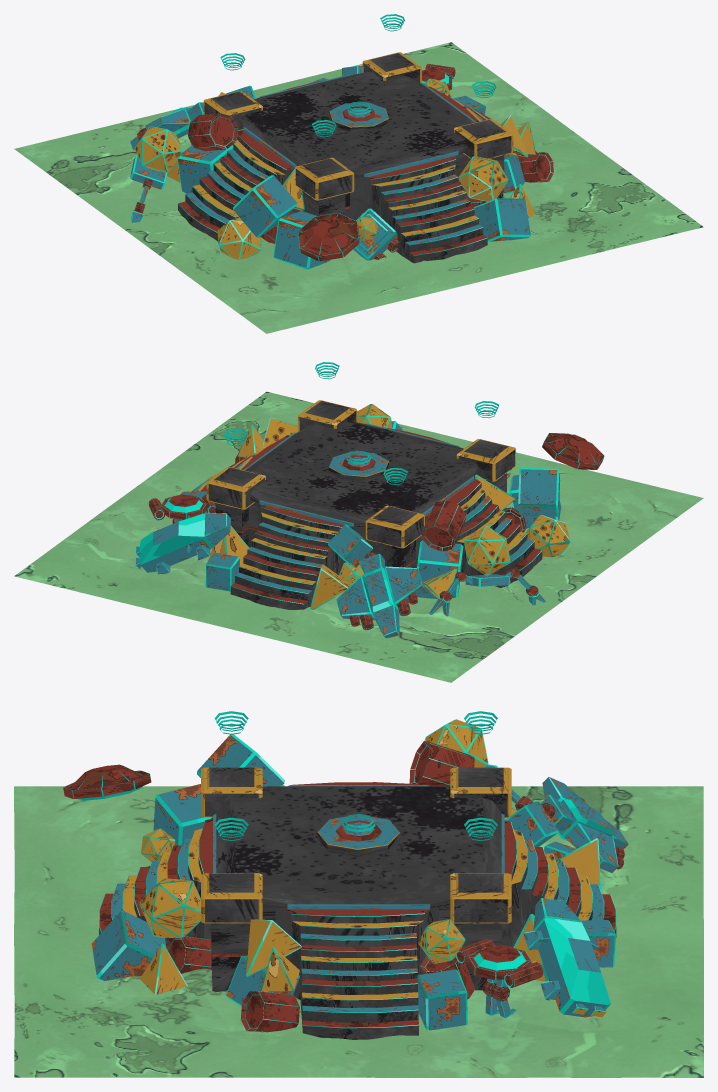
File: DBCPLATAFORMA_20260429.glb
3 renders of one model, top to bottom at view 1: azimuth 30°, elevation 25°; view 2: azimuth 150°, elevation 25°; view 3: azimuth 270°, elevation 25°, orthographic. The views are drawn at different scales.
Visible parts, largest first — view 1: Plane.2X2, Base.001, Escalera, Soporte01, SpiderRobot, NaveB, Cube.060, Cube.019, Soporte01.002, Icosphere.015, Cylinder.020, RobococheB (+10 smaller); view 2: Plane.2X2, Base.001, Escalera, Nave01, Robocohe01, SpiderRobot, Soporte01.004, Soporte01.003, Cube.060, Soporte01, Cylinder.020, NaveB (+13 smaller); view 3: Plane.2X2, Base.001, Escalera, Robocohe01, Soporte01.002, Soporte01.003, Nave01, Mecarobot01, Cube.019, Icosphere.015, Cube.065, Plataforma para objetos (+20 smaller).
Part boxes in pixels (x1,y1,x2,y2): Plane.2X2: [14, 42, 703, 333]; Base.001: [240, 72, 475, 217]; Escalera: [178, 81, 536, 263]; Soporte01: [295, 158, 354, 215]; SpiderRobot: [130, 126, 183, 222]; NaveB: [298, 213, 359, 261]; Cube.060: [233, 175, 297, 237]; Cube.019: [473, 198, 530, 241]; Soporte01.002: [454, 119, 513, 198]; Icosphere.015: [458, 156, 508, 201]; Cylinder.020: [188, 113, 238, 151]; RobococheB: [353, 208, 399, 260]; Plane.2X2: [14, 391, 703, 682]; Base.001: [243, 421, 478, 552]; Escalera: [191, 427, 542, 609]; Nave01: [336, 552, 424, 638]; Robocohe01: [135, 513, 230, 574]; SpiderRobot: [429, 526, 545, 616]; Soporte01.004: [365, 505, 424, 567]; Soporte01.003: [206, 467, 265, 545]; Cube.060: [518, 468, 560, 516]; Soporte01: [456, 439, 515, 508]; Cylinder.020: [421, 500, 466, 551]; NaveB: [542, 433, 604, 469]; Plane.2X2: [14, 786, 703, 1077]; Base.001: [213, 785, 504, 931]; Escalera: [99, 782, 616, 1039]; Robocohe01: [523, 898, 610, 1017]; Soporte01.002: [201, 873, 262, 991]; Soporte01.003: [450, 873, 511, 990]; Nave01: [540, 777, 628, 872]; Mecarobot01: [456, 938, 543, 1018]; Cube.019: [91, 911, 166, 980]; Icosphere.015: [139, 878, 200, 938]; Cube.065: [417, 969, 467, 1030]; Plataforma para objetos: [317, 815, 399, 856].
Size of the model in its own units: 32.02 by 9.21 by 32.02.
Materials: 3 (3 with a texture image).
